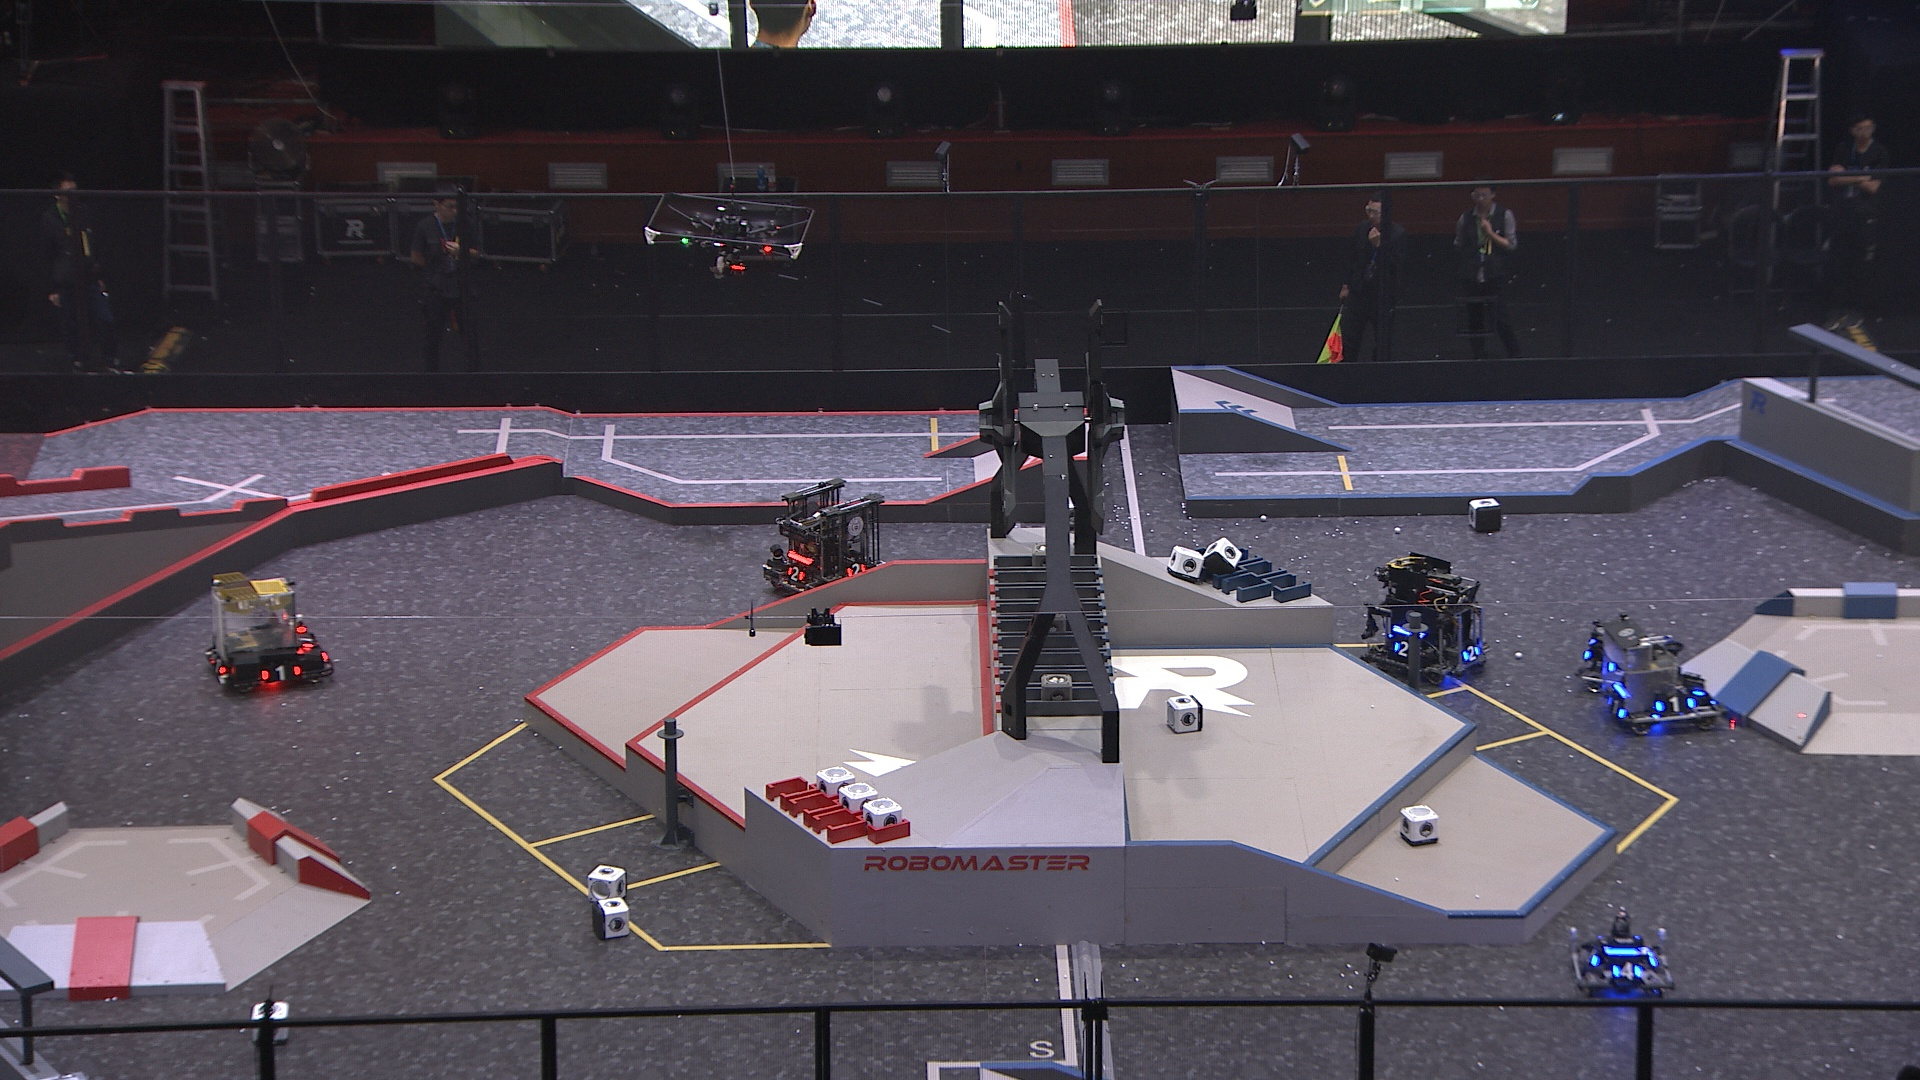armor: (262, 665, 301, 683), (1658, 695, 1695, 713), (1610, 963, 1643, 978), (1605, 695, 1626, 717), (295, 626, 313, 651), (207, 655, 225, 676), (785, 562, 806, 580), (845, 562, 868, 579), (1390, 640, 1408, 659), (1586, 945, 1600, 972), (1462, 645, 1482, 661)
car: (1360, 551, 1490, 688), (204, 570, 338, 692), (764, 479, 891, 600), (1596, 615, 1722, 732), (1571, 906, 1679, 998)
